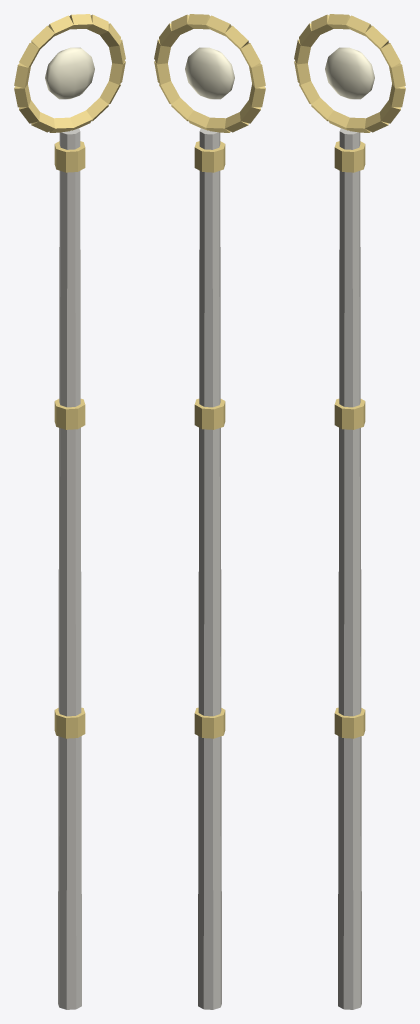
The model's file is Staff_Priest.gltf.
3 views of the same model, side by side, from view 1: azimuth 30°, elevation 25°; view 2: azimuth 150°, elevation 25°; view 3: azimuth 330°, elevation 25° (orthographic).
Visible parts, largest first — view 1: Staff_Priest; view 2: Staff_Priest; view 3: Staff_Priest.
Boxes of the visible parts, <box> form: Staff_Priest: <box>14,14,125,1009</box>; Staff_Priest: <box>154,14,265,1009</box>; Staff_Priest: <box>294,14,405,1009</box>.
Bounding box in the file's own units: 0.2275 × 1.92 × 0.056.
